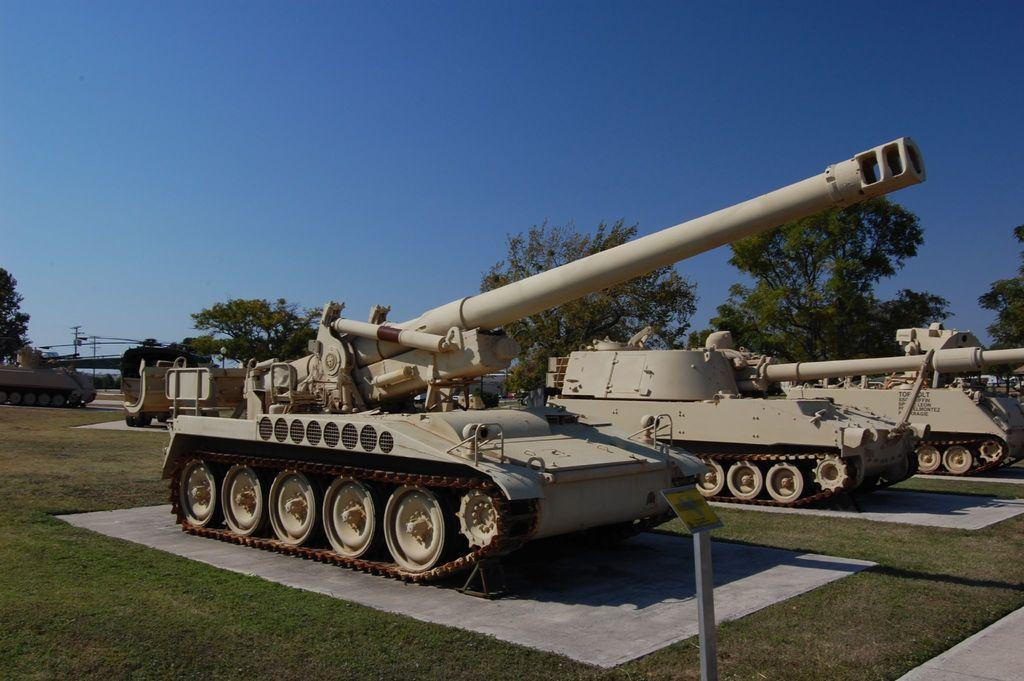Tank: (157, 132, 927, 596), (546, 321, 1023, 507), (780, 320, 1023, 473), (0, 339, 100, 407)
